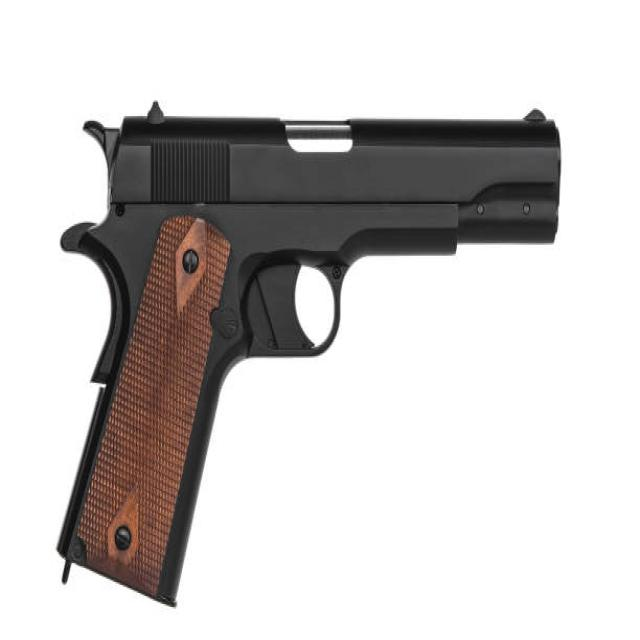pistol: (47, 84, 563, 620)
